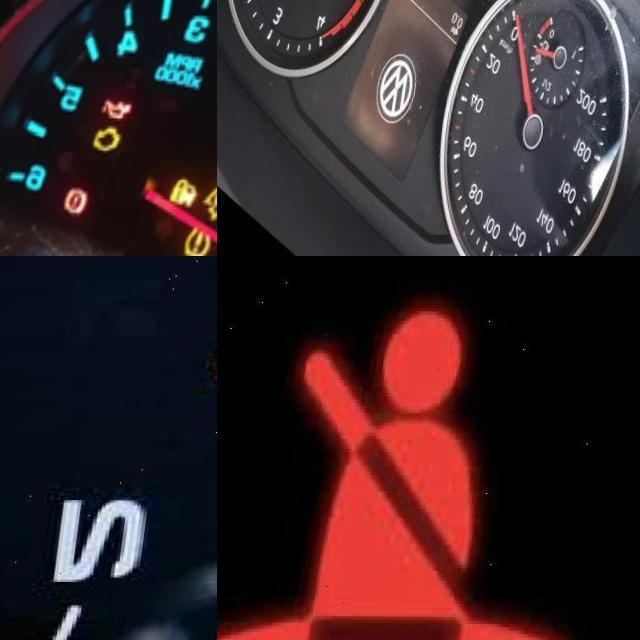Seat Belt: (217, 303, 613, 640)
security: (178, 173, 209, 207)
